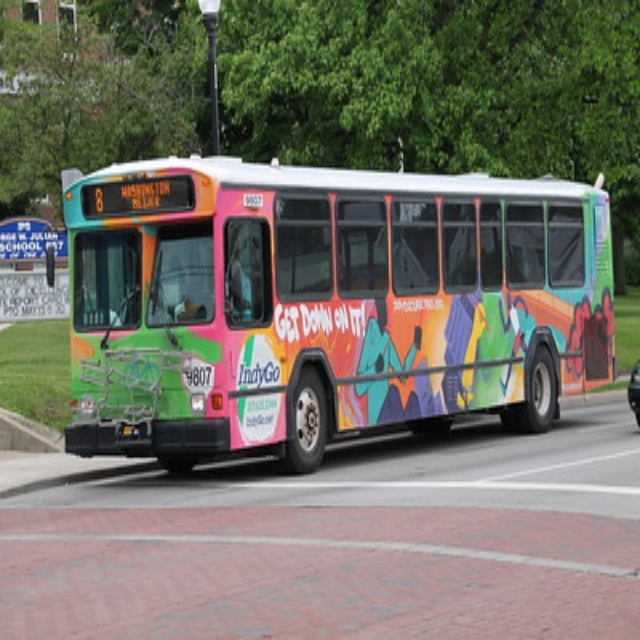Bus: (64, 156, 616, 475)
